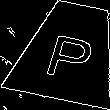P_N: (40, 23, 99, 81)
